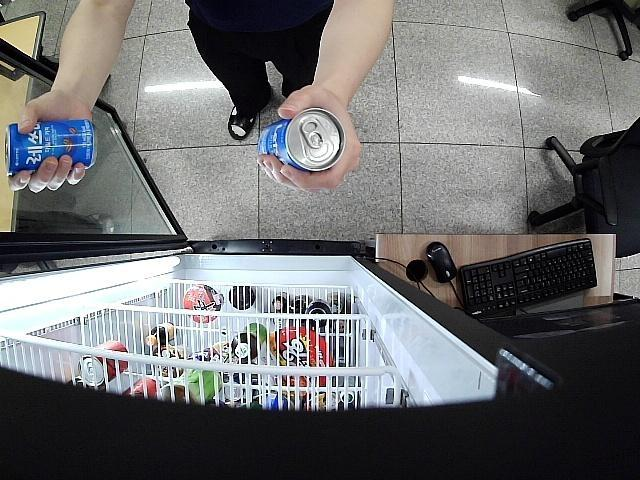15_letsbe: (2, 118, 98, 178), (257, 108, 344, 172)
